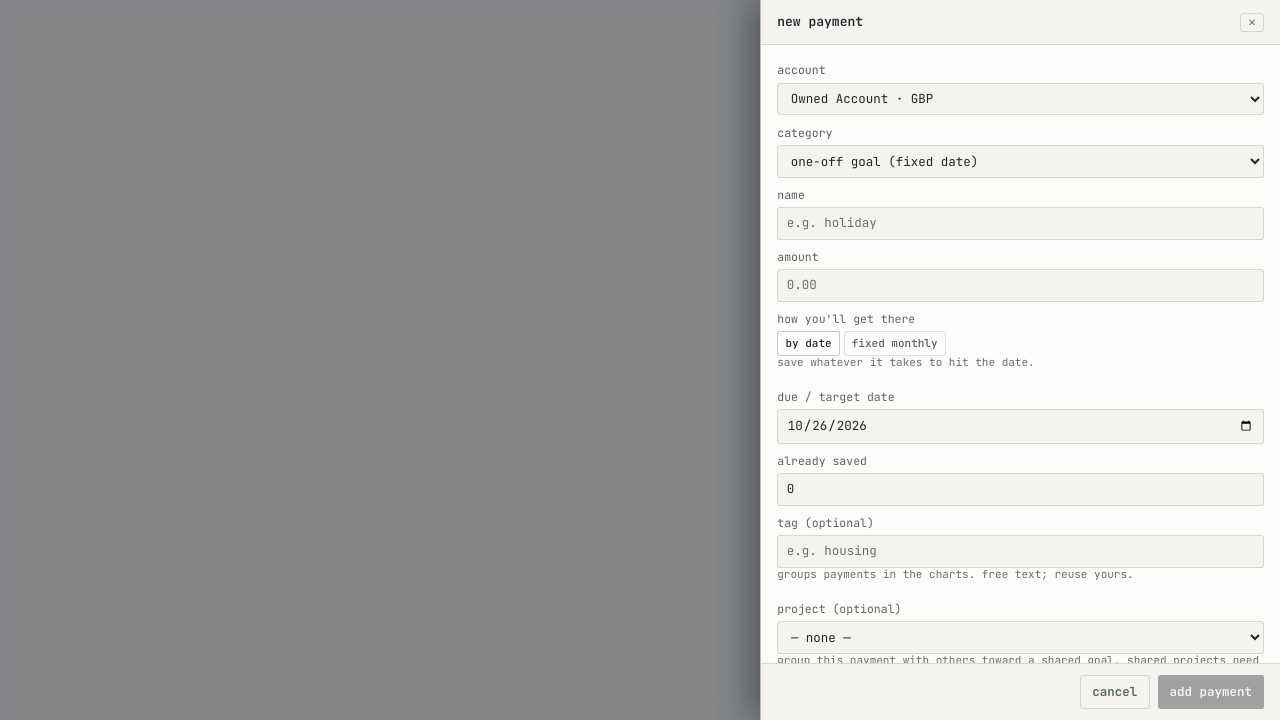
Test: NewPaymentDrawer · goal modes › swaps the date field for a monthly amount in fixed-monthly mode
The width and height of the screenshot is (1280, 720).
Expected: the dropdown labelled "account" shows "Owned Account · GBP", [777,83,1264,115]
Type "New telly" into the field with placeholder "e.g. holiday" at (1021, 223), box [777,207,1264,240]
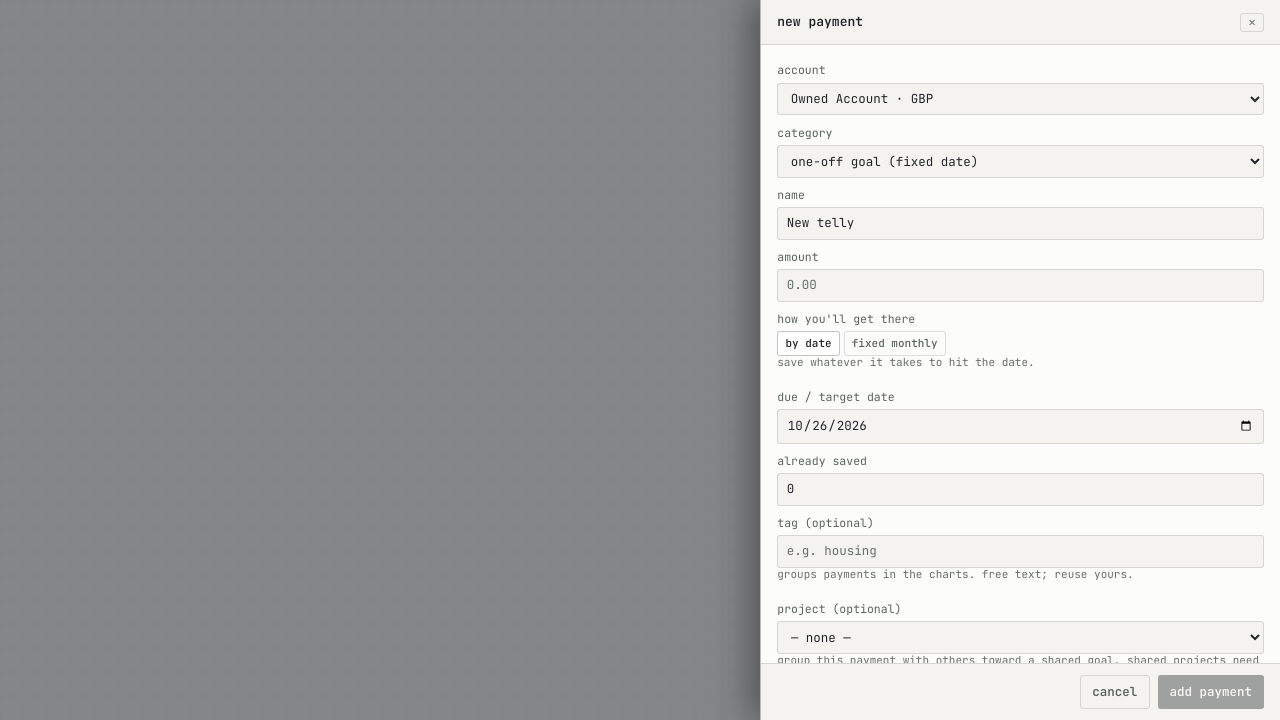
Type "1200" into the field labelled "amount" at (1021, 285), box [777,269,1264,302]
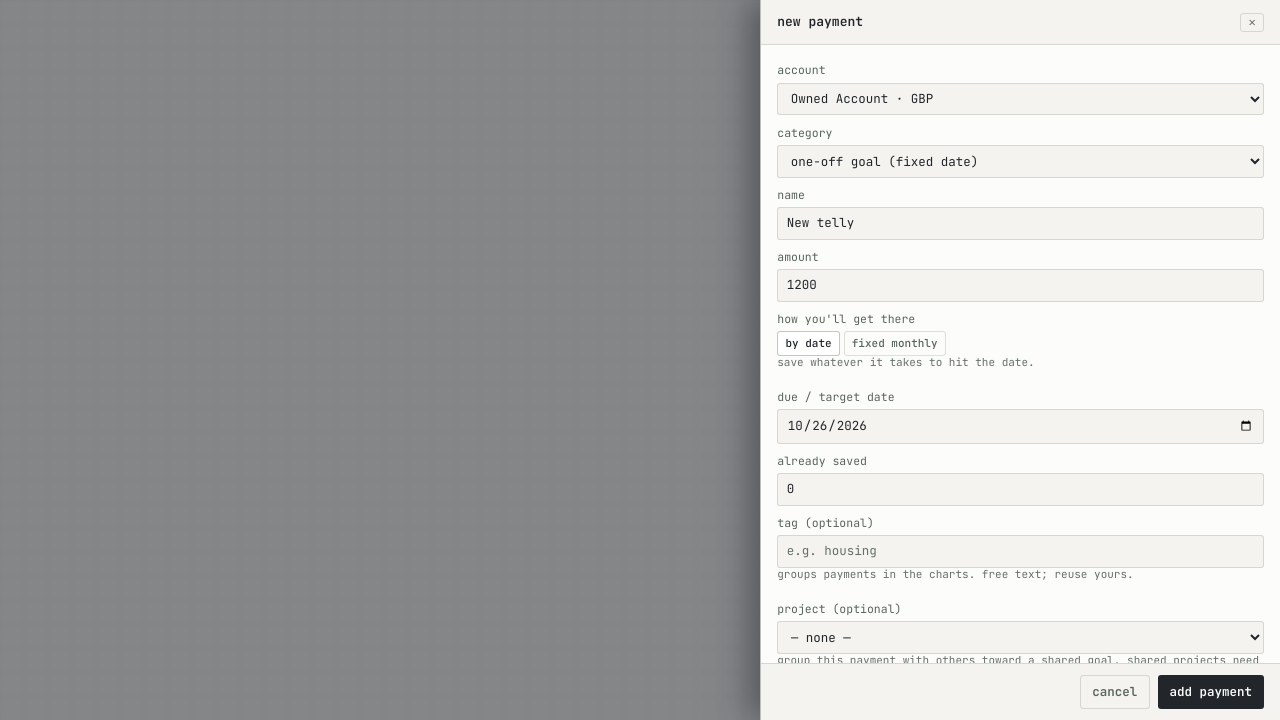
Click the button "fixed monthly" at (895, 344), box [844,331,946,356]
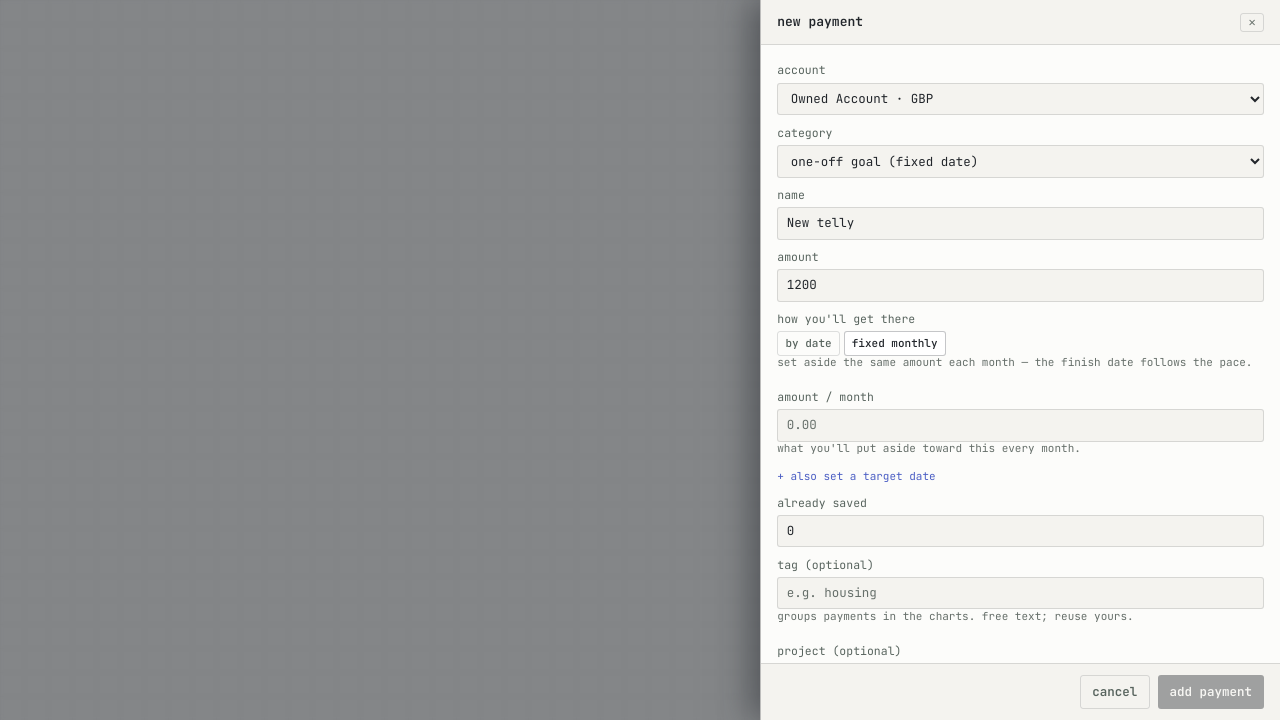
Expected: the field labelled "amount / month" is shown, [777,409,1264,442]
Expected: the label labelled "due / target date" is gone
